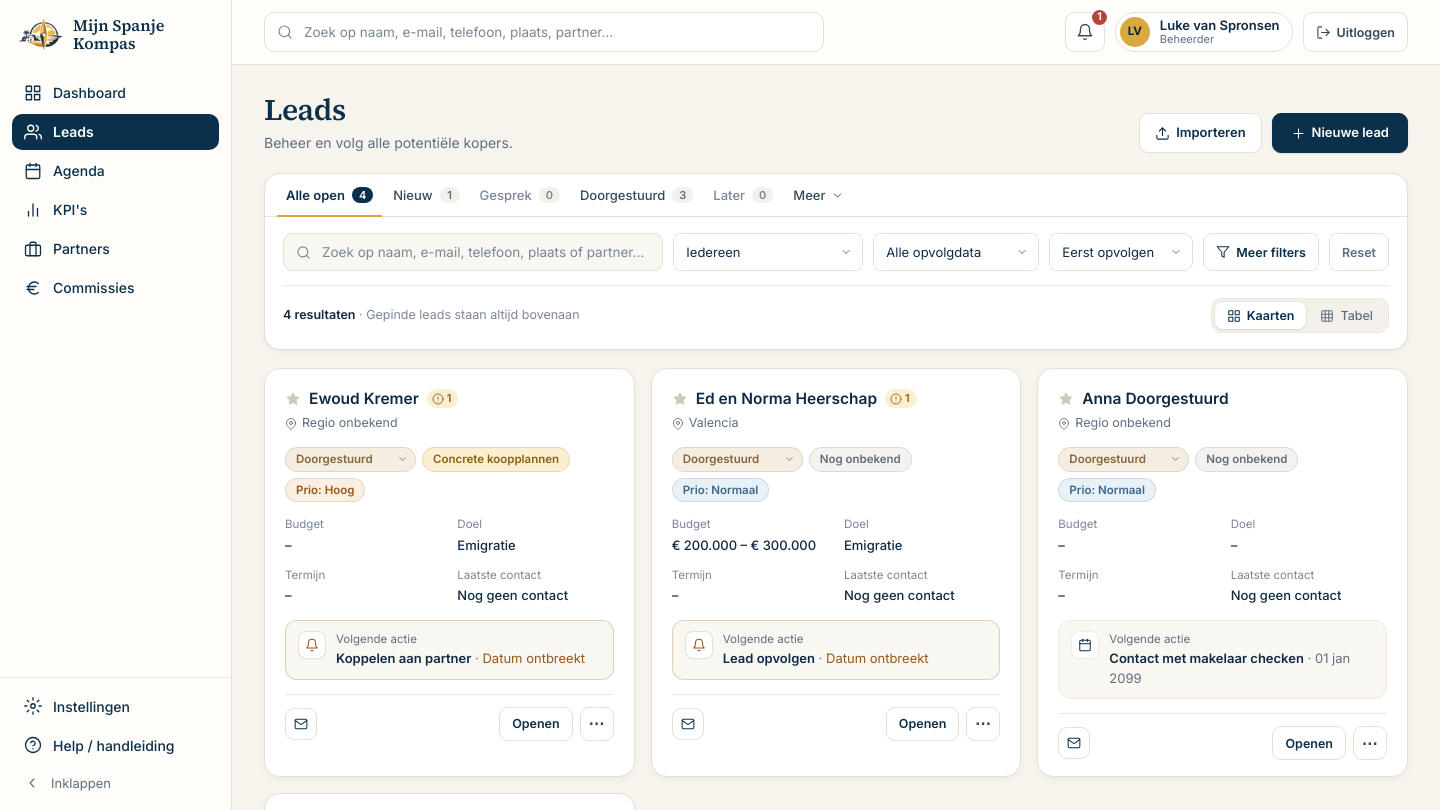
Test: tabbladen per pipelinefase filteren de lijst
Click the tab "Doorgestuurd 3" at (637, 196), box 571,174 -> 702,217
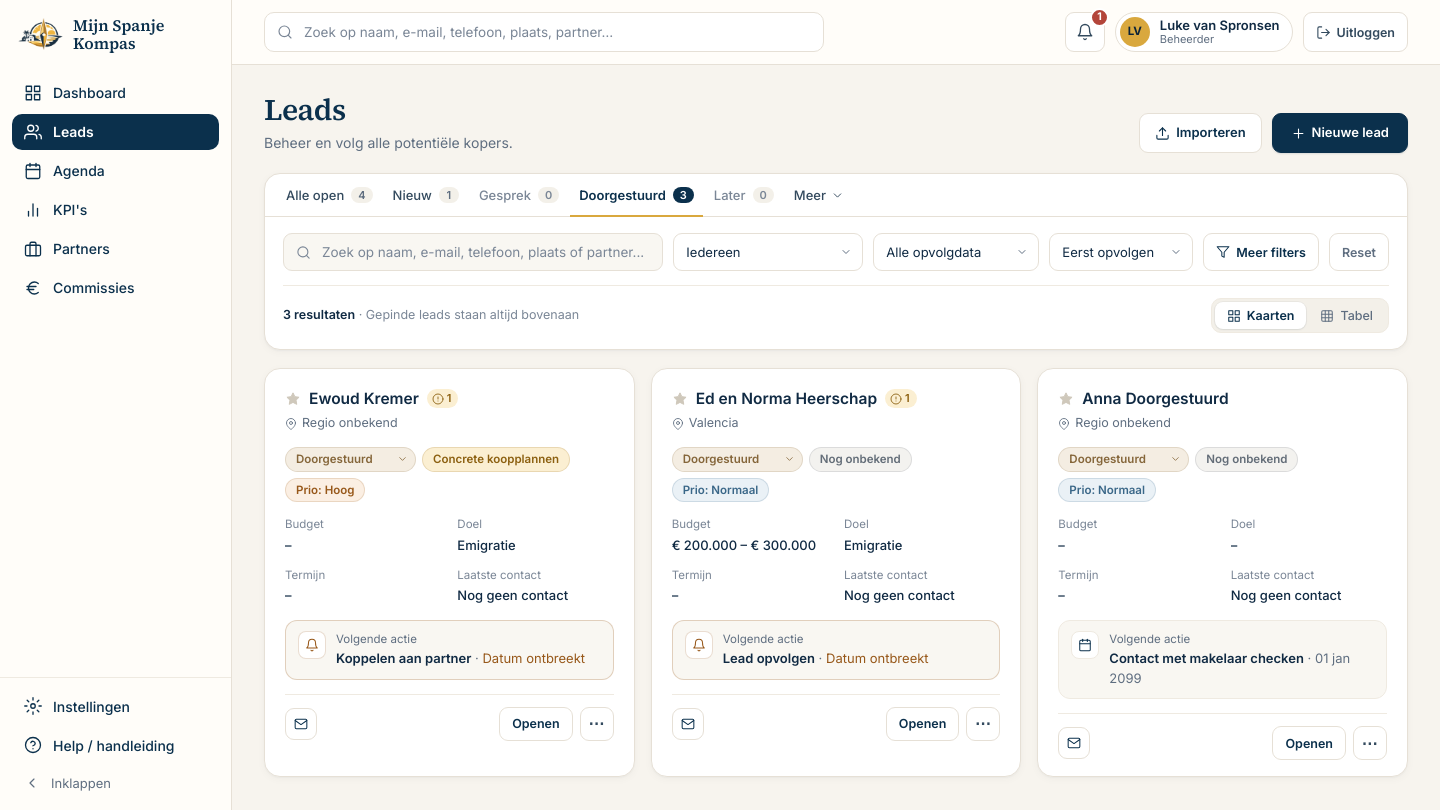
Check: the text "Anna Doorgestuurd" is shown, box 1082,387 -> 1229,410
Click the tab "Alle open 4" at (329, 196), box 277,174 -> 382,217
(page scrolled)
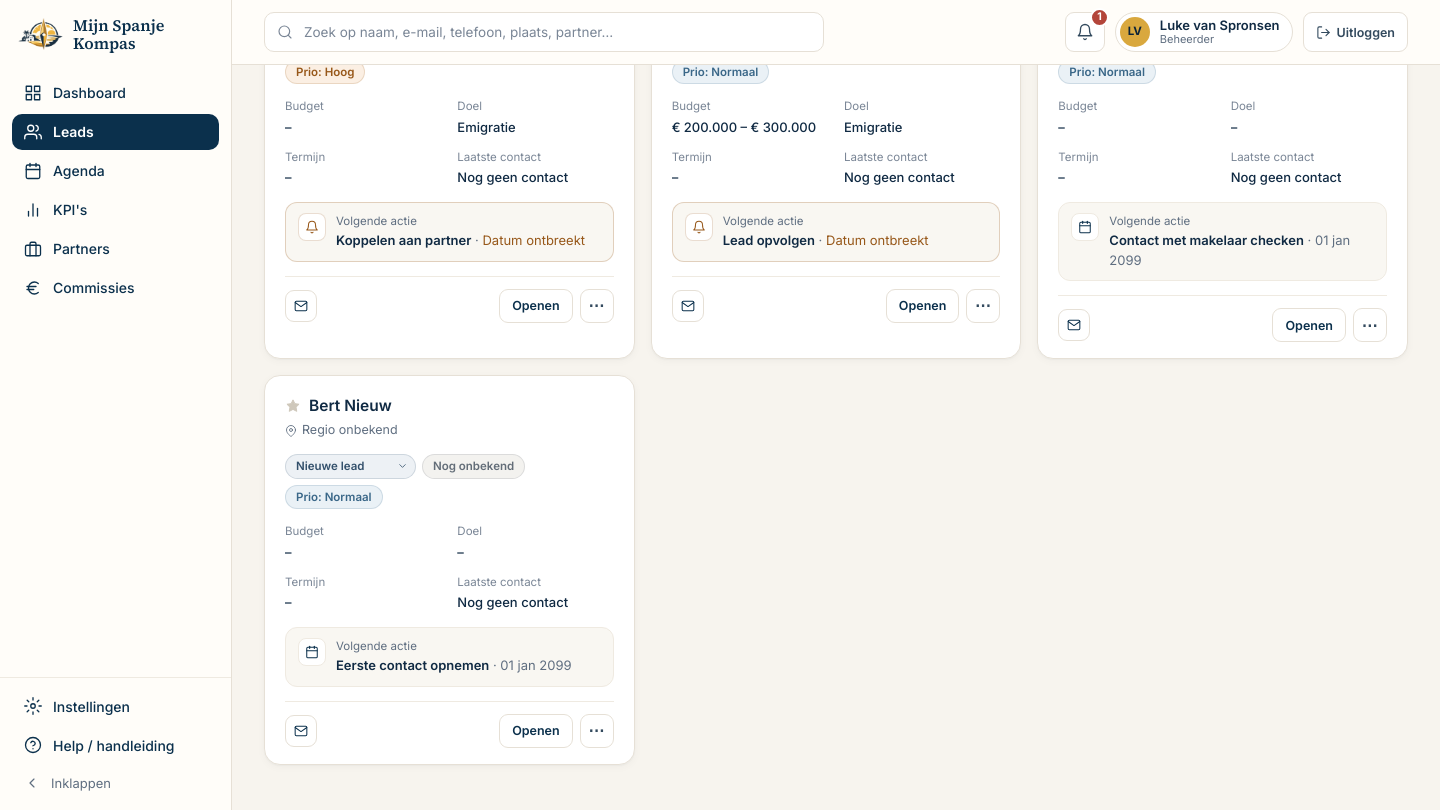
Check: the text "Bert Nieuw" is shown, box 309,394 -> 392,417
